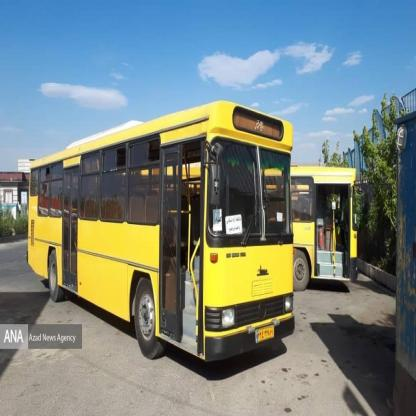Bus: (28, 100, 295, 365), (292, 166, 360, 292)
